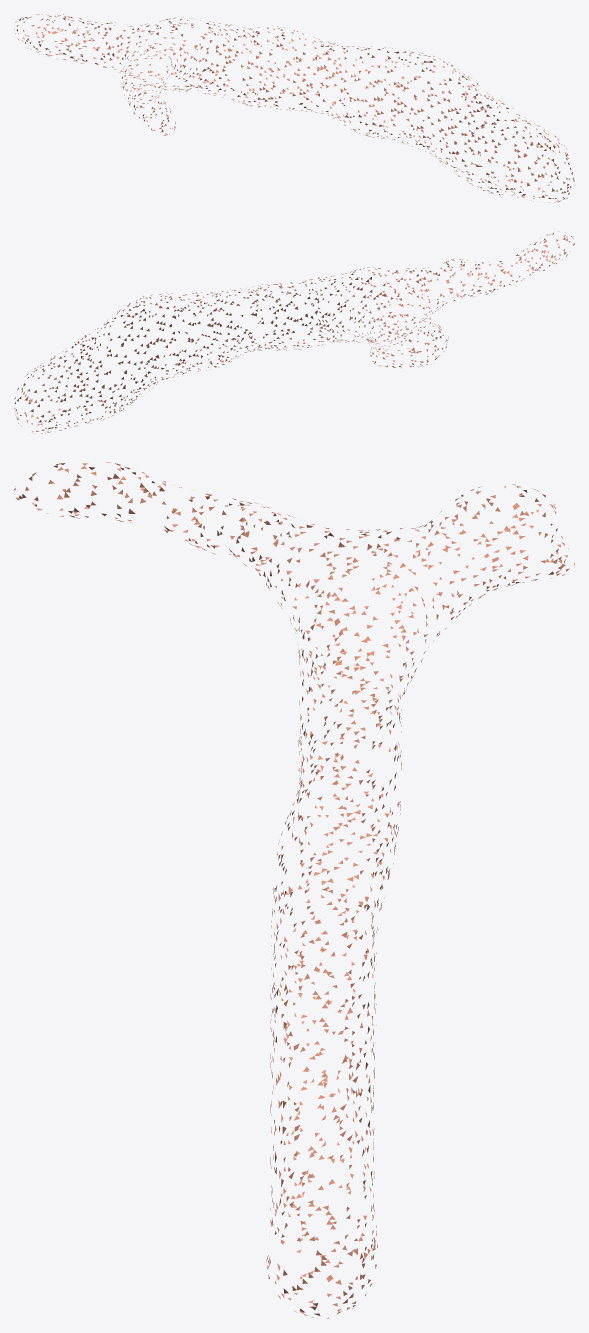
The model's file is morph_003.glb.
3 renders of one model, top to bottom at view 1: azimuth 30°, elevation 25°; view 2: azimuth 150°, elevation 25°; view 3: azimuth 270°, elevation 25°, orthographic. The views are drawn at different scales.
Bounding box in the file's own units: 111 × 57.51 × 63.41.
